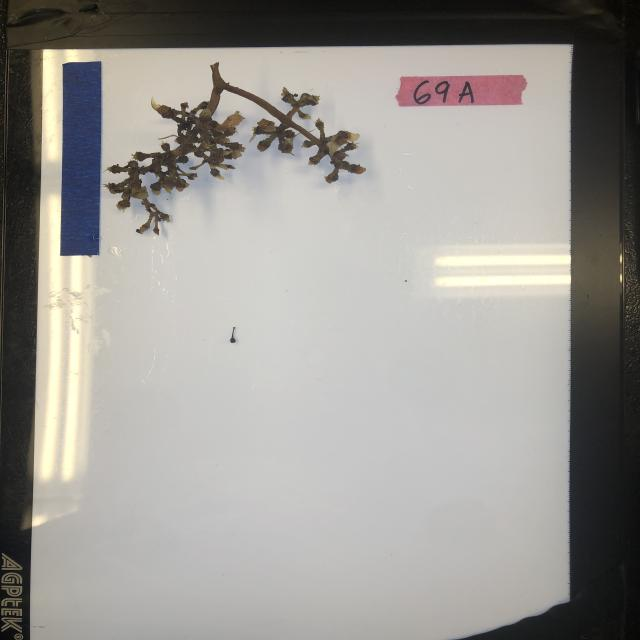index: (397, 73, 528, 107)
measure_label: (62, 60, 100, 256)
rachis_cluster: (109, 60, 368, 235)
